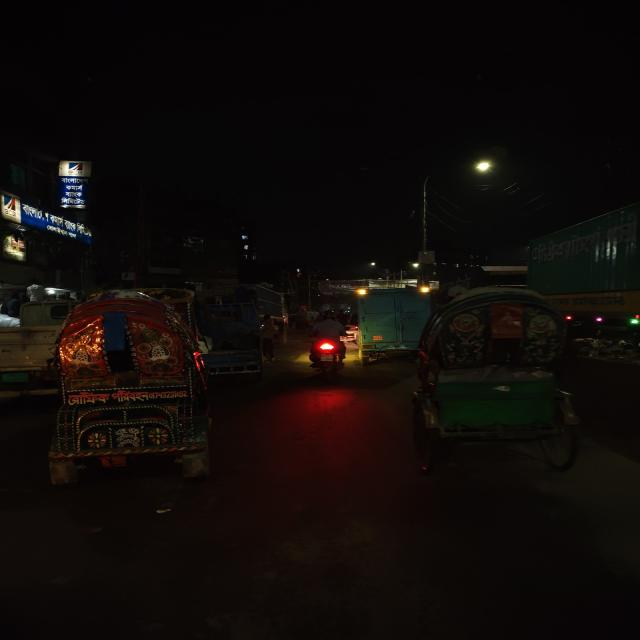motorcycle: (299, 309, 361, 379)
pedestrian: (253, 312, 284, 363)
pickup_van: (0, 300, 66, 400), (183, 302, 263, 380)
rickshaw: (396, 282, 591, 478), (42, 289, 220, 487)
truck: (524, 203, 640, 330), (355, 287, 432, 355)
